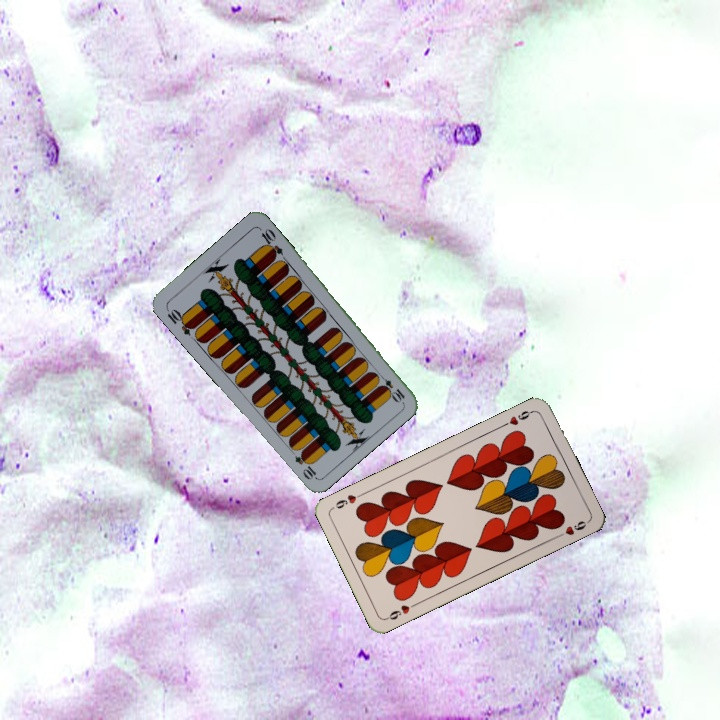E10: (162, 304, 197, 338), (374, 370, 407, 405)
H9: (382, 599, 420, 623), (498, 406, 536, 429)
